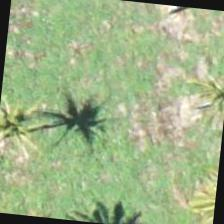Kelapa_Sawit: (0, 76, 63, 173)
